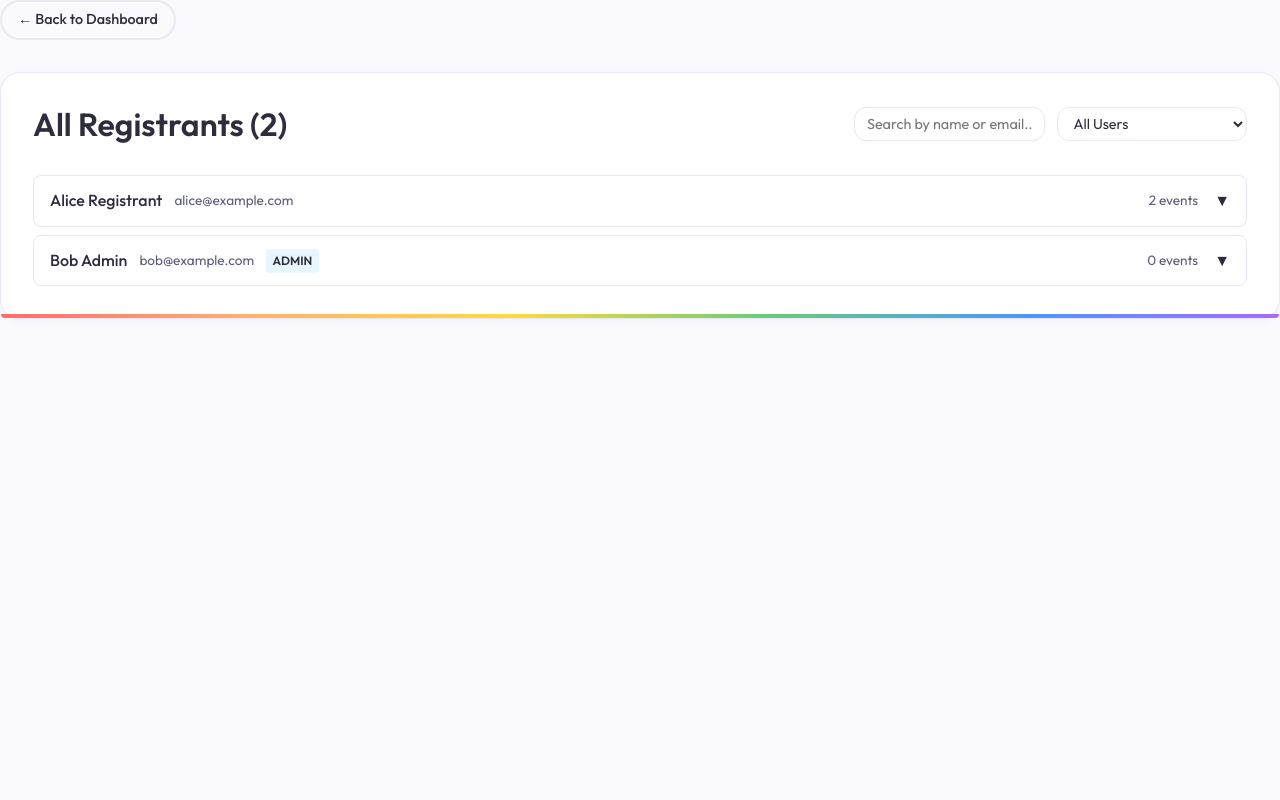
Test: AdminUsersManager › allows expanding a user to see more details and actions
This screenshot has width=1280, height=800.
Click the text "Alice Registrant".
click(106, 201)  # box x1=50 y1=188 x2=162 y2=214
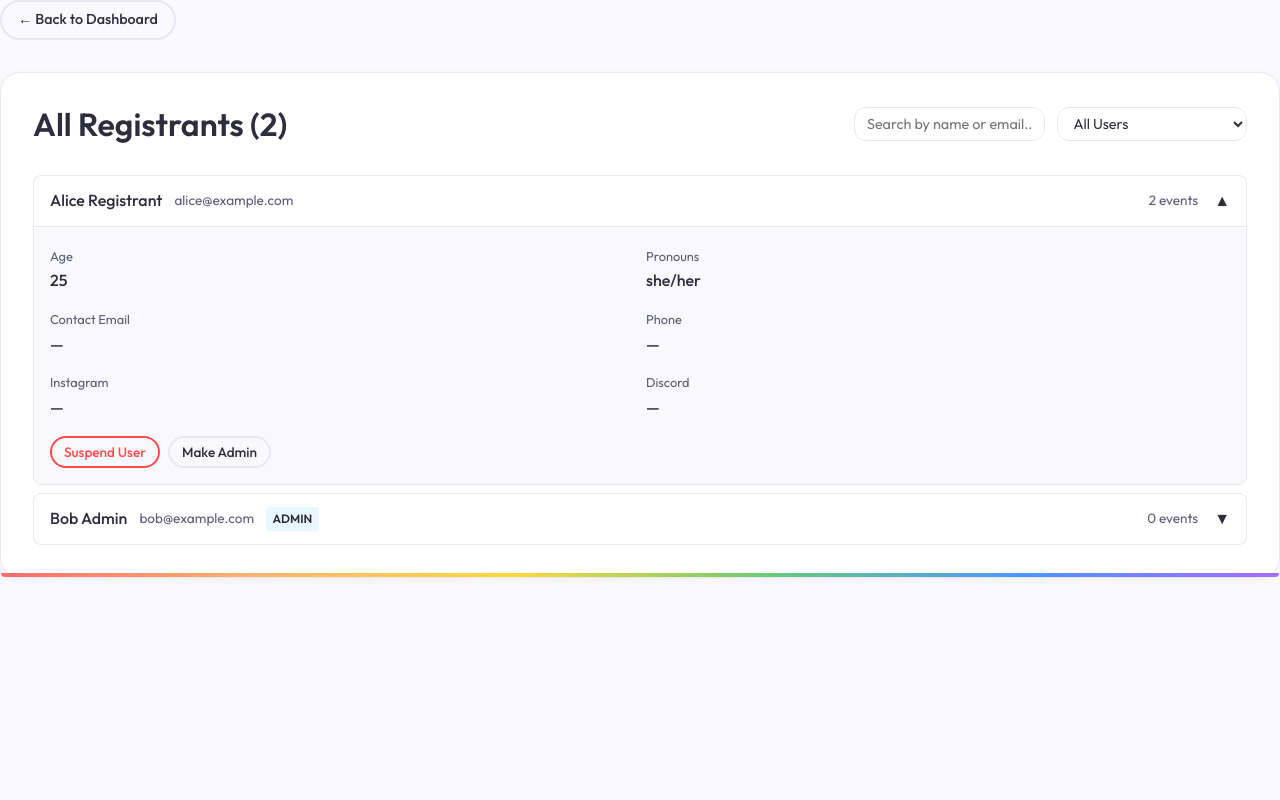
Now the button "Suspend User" is shown, box x1=50 y1=436 x2=160 y2=468
Now the button "Make Admin" is shown, box x1=168 y1=436 x2=271 y2=468
